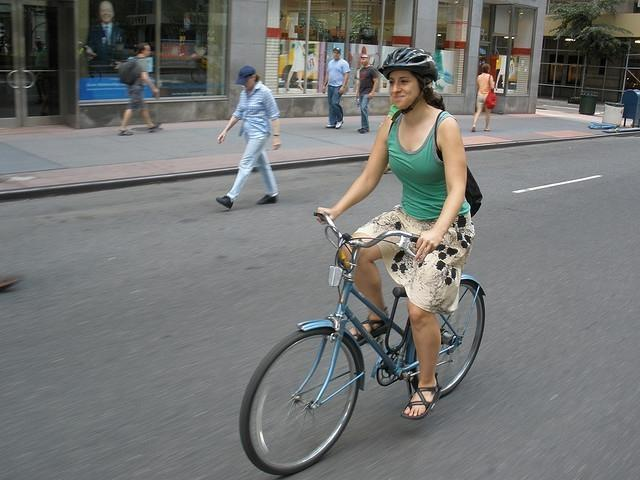bicycle: (239, 211, 486, 475)
